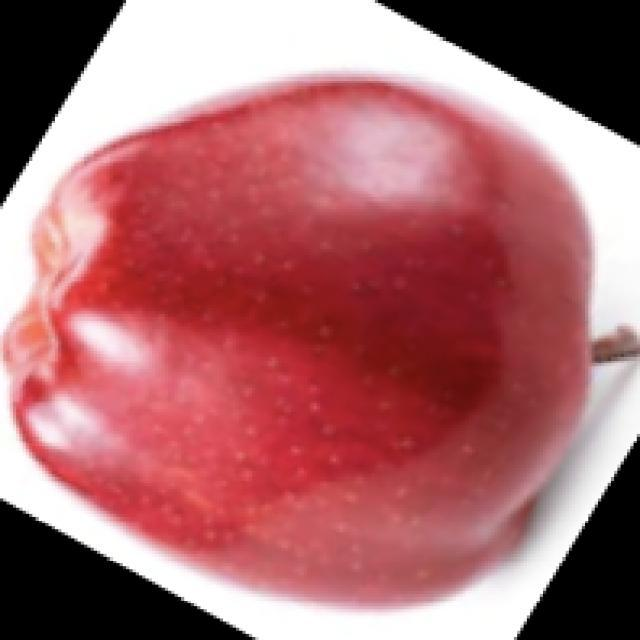Fresh Apple: (0, 67, 599, 611)
